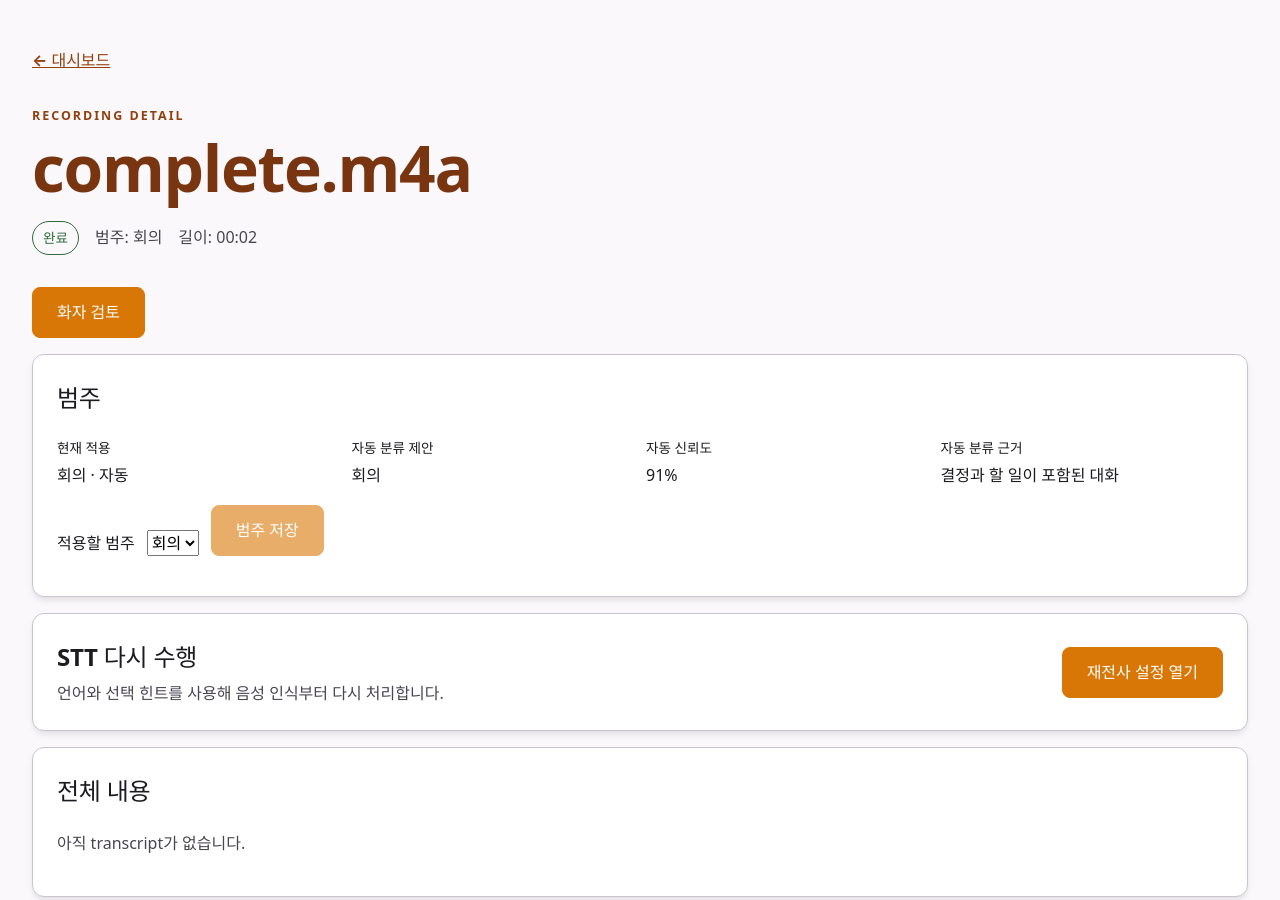
자동 분류 근거를 표시하고 허용 범주를 수동 저장한다
Check: the text "자동 분류 제안" is shown, box [352,438,434,457]
Check: the text "91%" is shown, box [646,464,678,486]
Select "강의" in the dropdown labelled "적용할 범주". click: (173, 543)
box: [147,530,199,556]
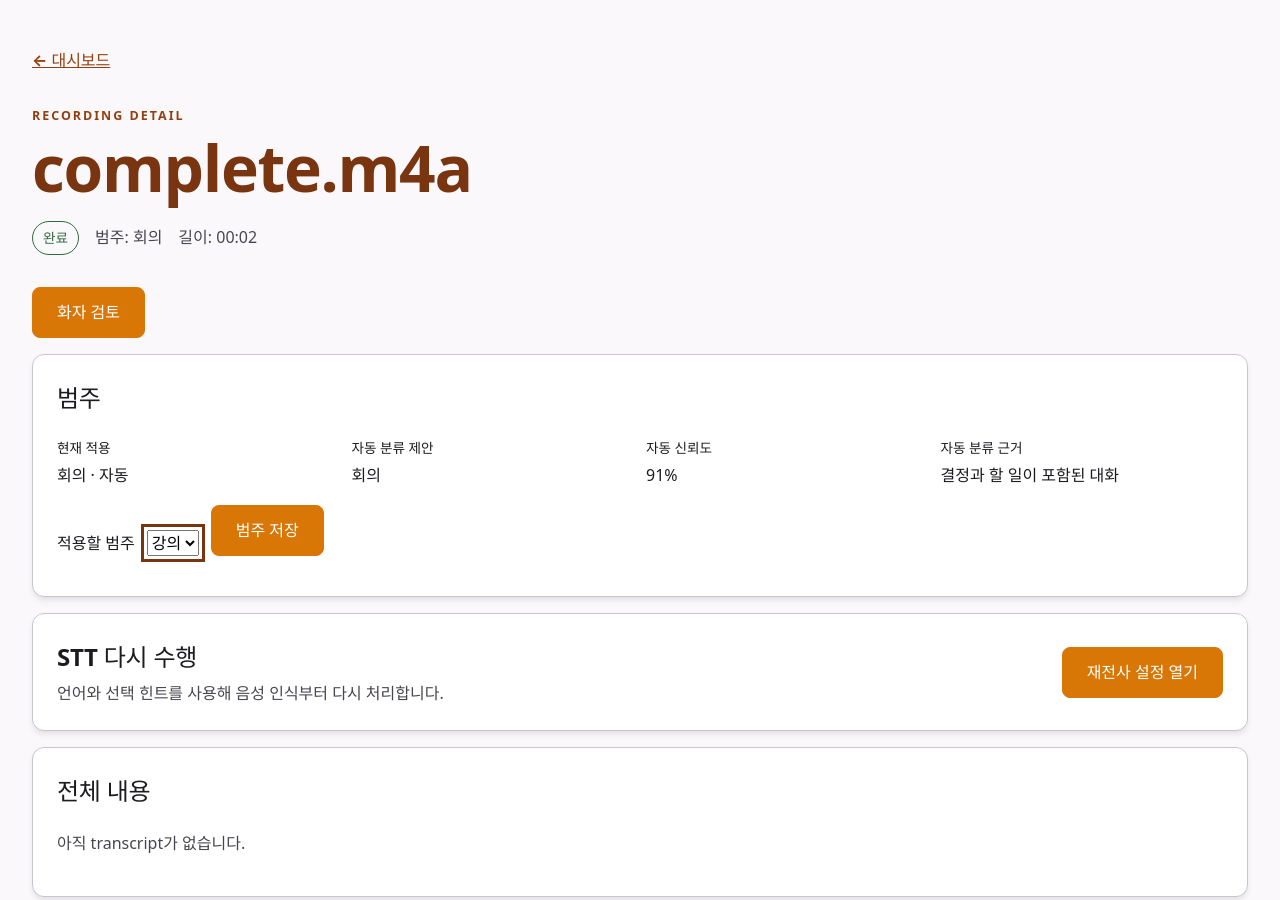
Click the button "범주 저장". click: (267, 530)
box: [211,505,324,556]
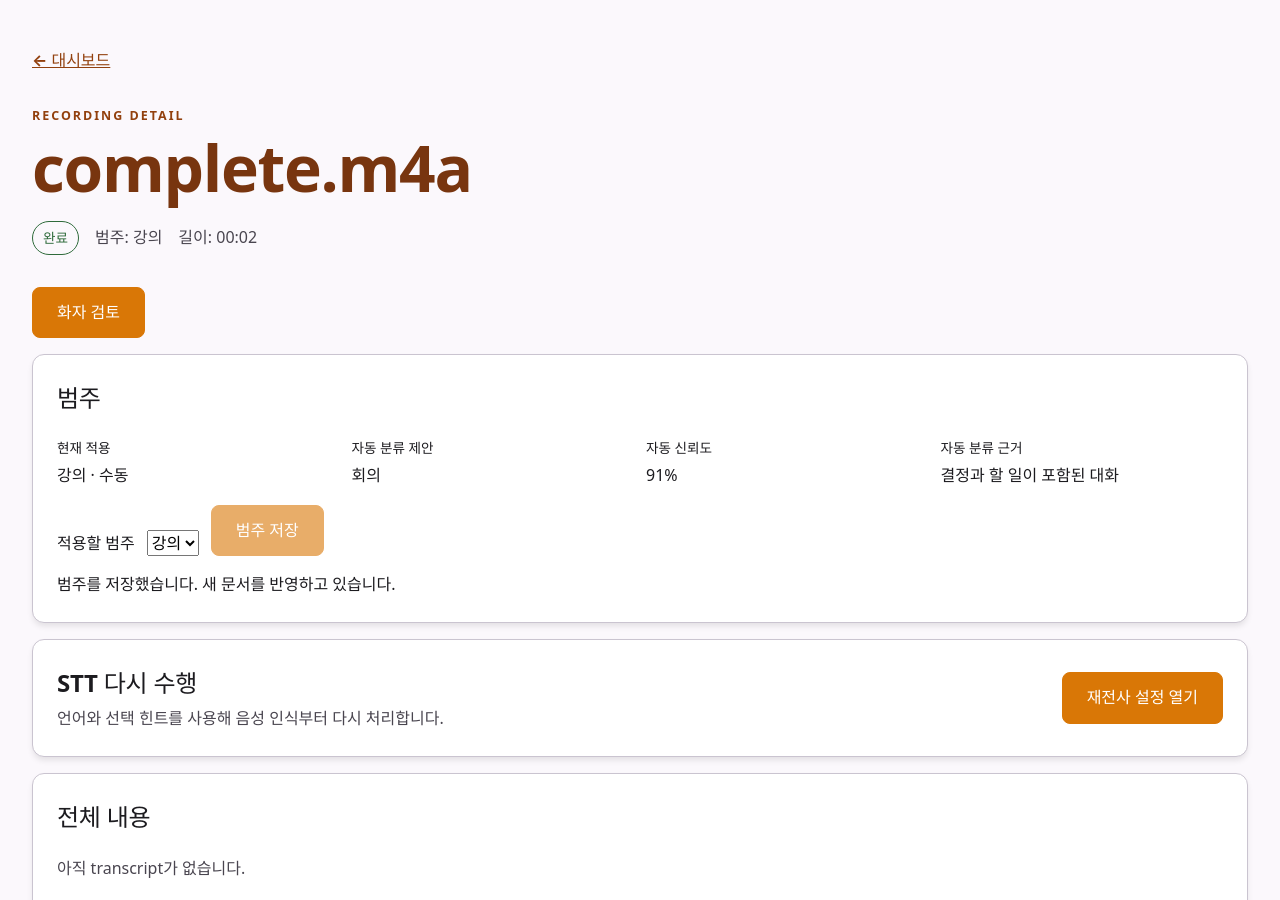
Check: the text "강의 · 수동" is shown, box [57,464,128,486]
